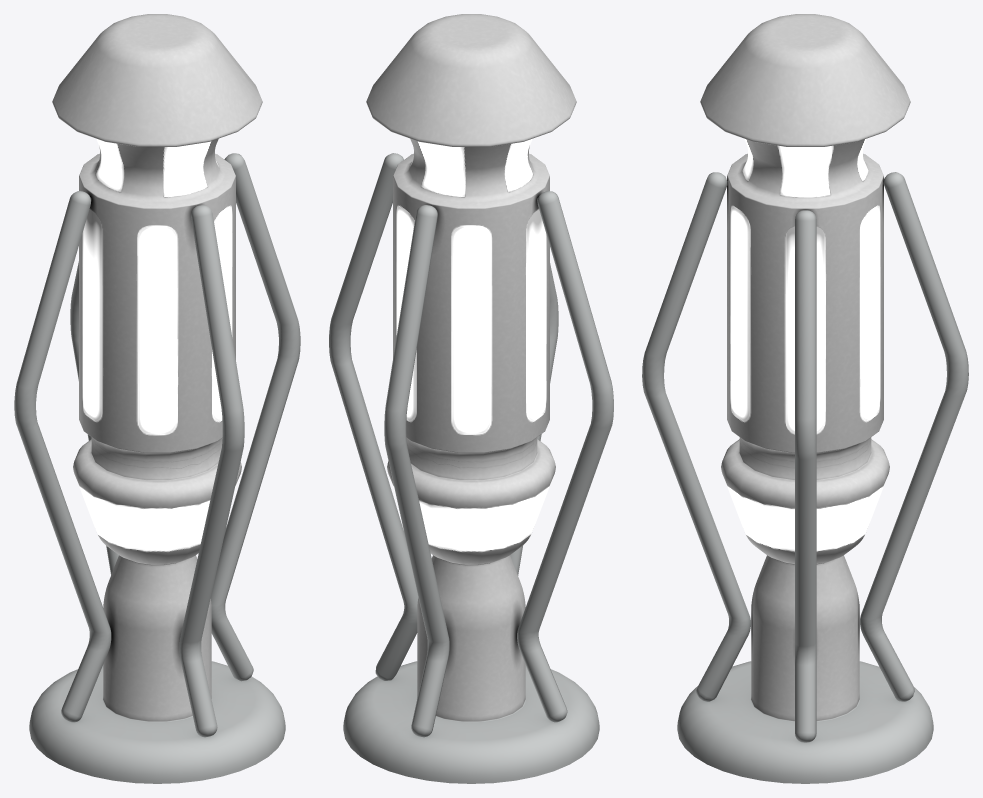
Rendered from LampFloor01.FBX.
3 views of the same model, side by side, from view 1: azimuth 30°, elevation 25°; view 2: azimuth 150°, elevation 25°; view 3: azimuth 270°, elevation 25° (orthographic).
Parts seen in each view (by area): view 1: LampFloor01; view 2: LampFloor01; view 3: LampFloor01.
Part boxes in pixels (x1,y1,x2,y2): LampFloor01: (14,14,300,783); LampFloor01: (329,14,613,783); LampFloor01: (642,14,968,783).
Size of what is drawn, in the model's own units: 0.677 by 1.59 by 0.677.
